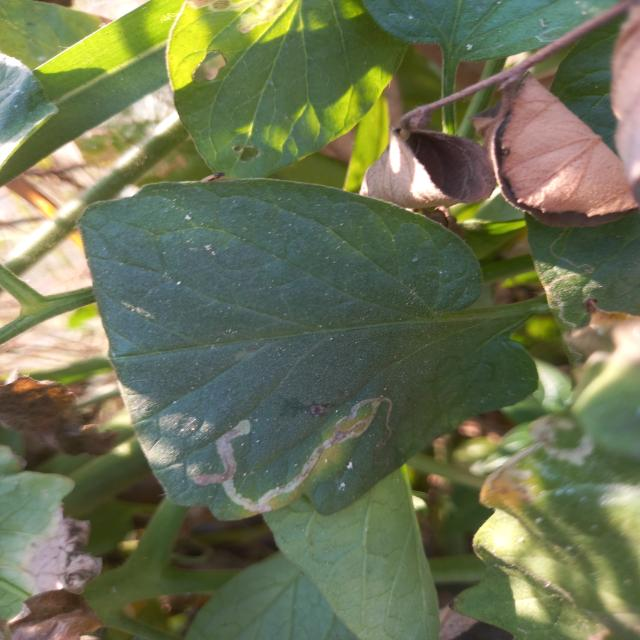Tuta absoluta: (182, 340, 402, 541)
